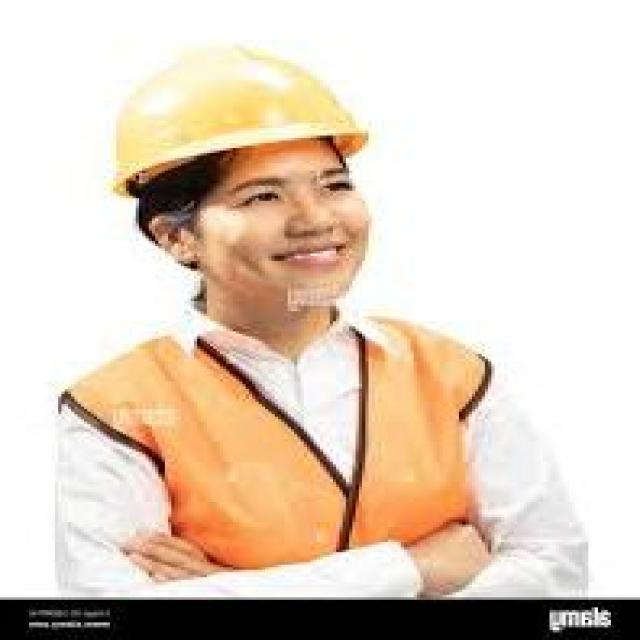Reflective-Jacket: (58, 306, 517, 587)
Safety-Helmet: (100, 38, 372, 186)
